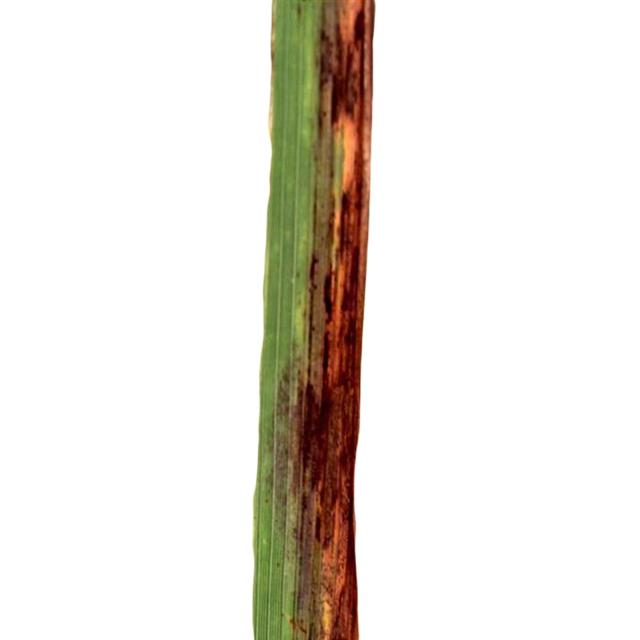Leaf scald: (185, 0, 450, 640)
